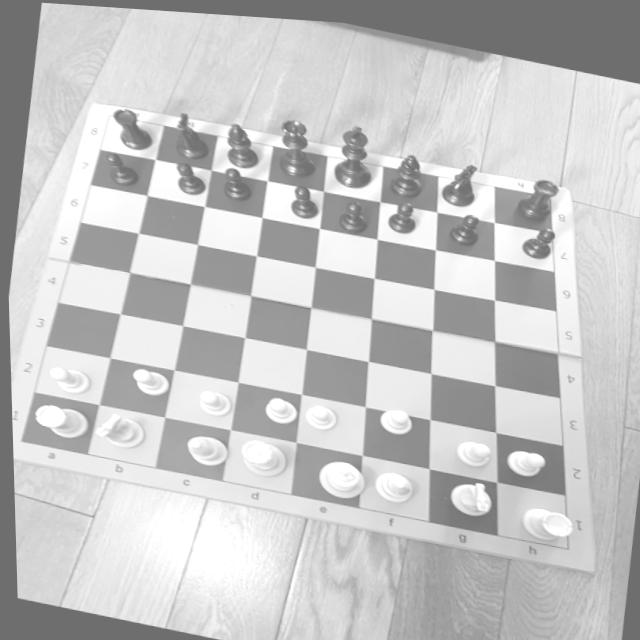Chessboard-Corners: (549, 531, 576, 548), (10, 433, 29, 449), (100, 111, 121, 125)
